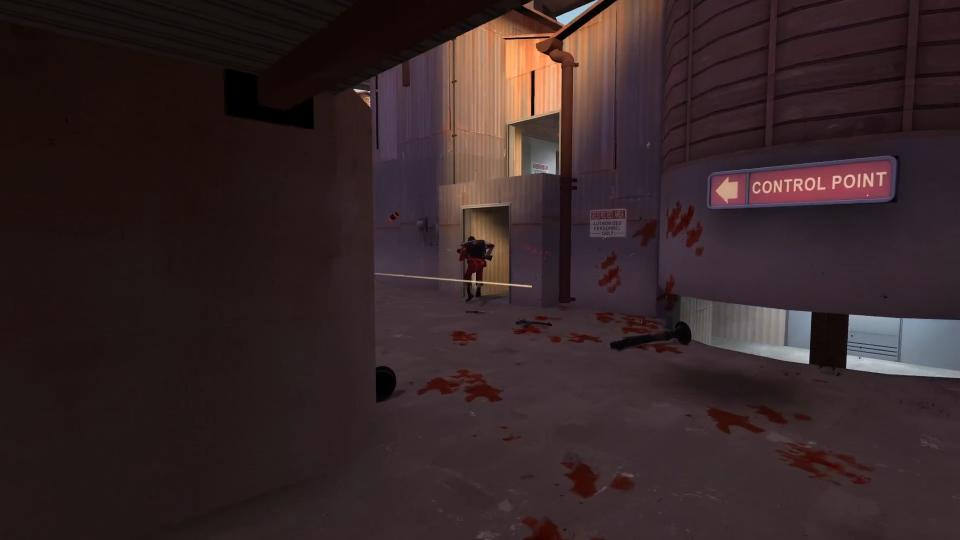Enemy: (455, 233, 500, 294)
